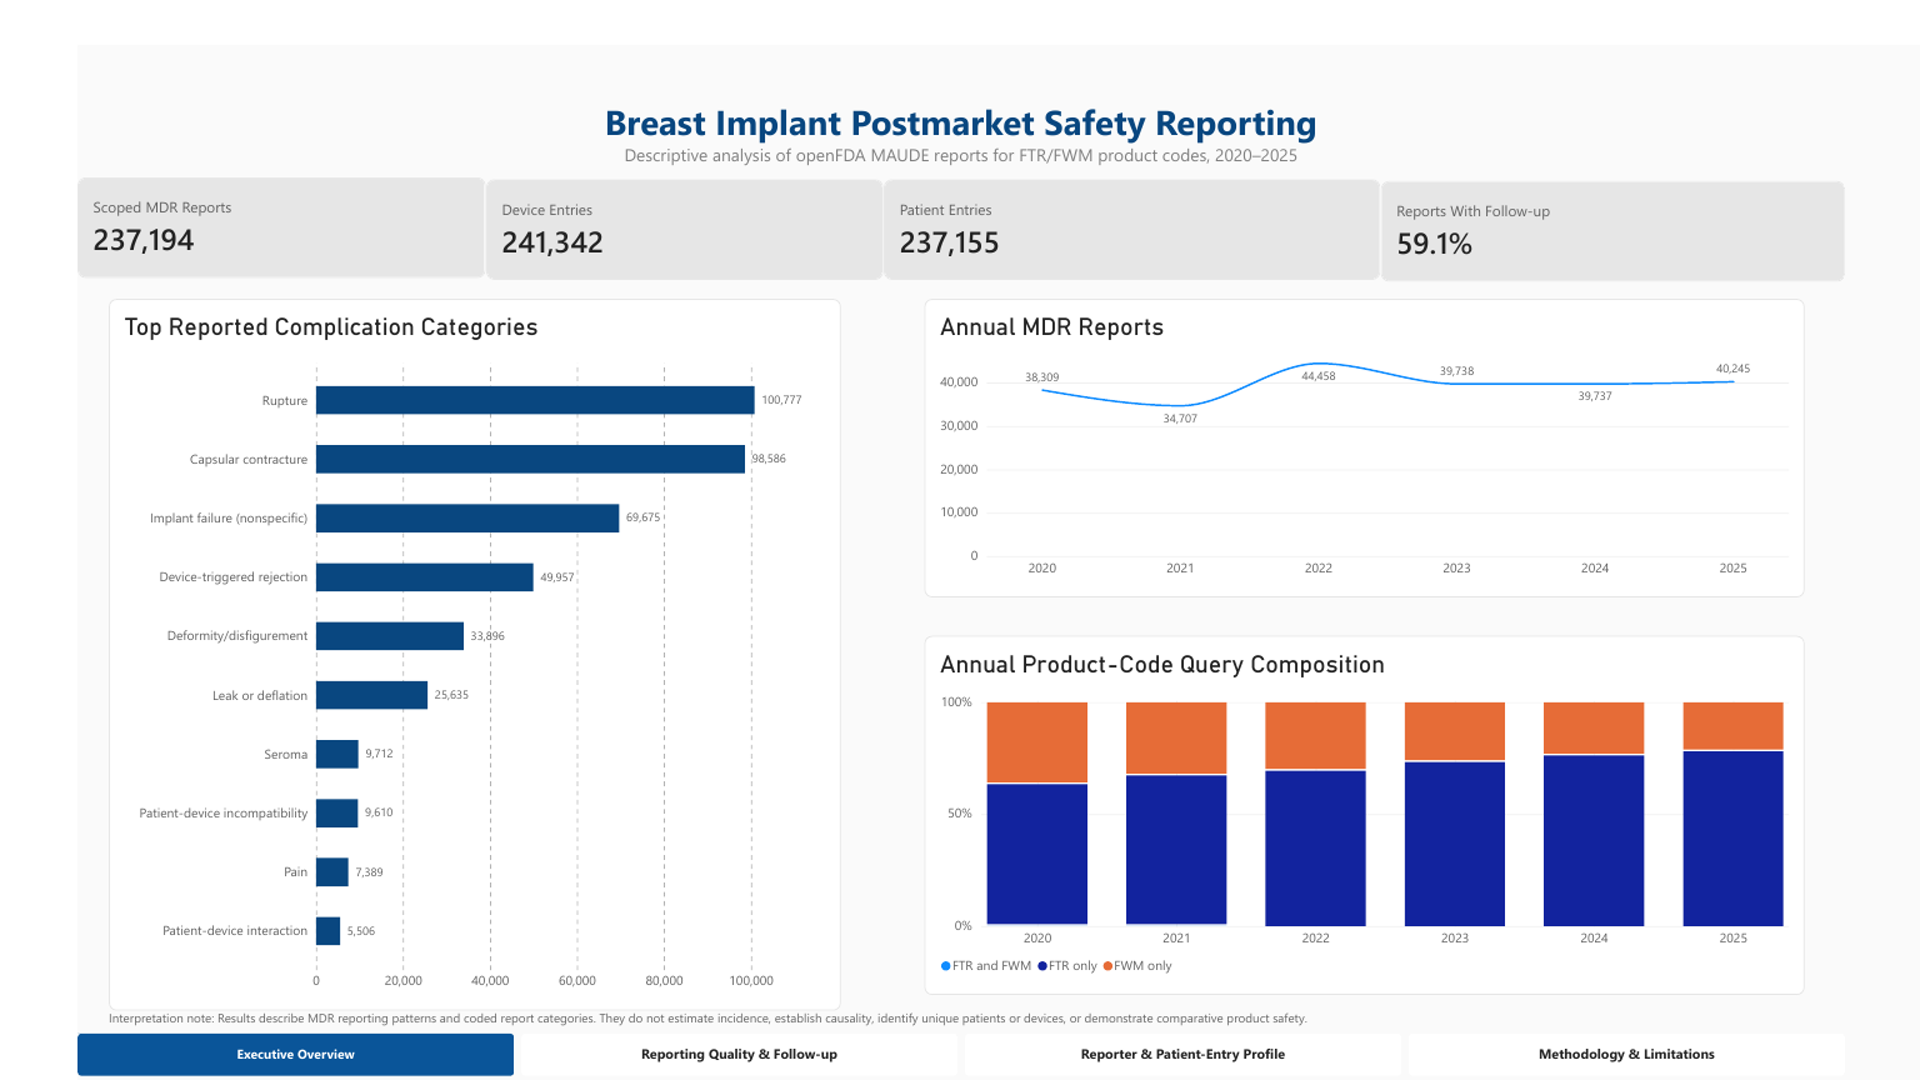

This screenshot's page, from the dashboard's own definition file:
{"tool":"powerbi","page":{"name":"Executive Overview","canvas":[1920,1080],"ordinal":0},"visuals":[{"type":"cardVisual","title":"Scoped MDR Reports","fields":{"Data":["_Measures.Scoped Reports"]},"box":[0,103.3,443.9,109.8],"z":1000},{"type":"cardVisual","title":"Device Entries","fields":{"Data":["_Measures.Device Entries"]},"box":[443.3,105,431.7,109.8],"z":2500},{"type":"cardVisual","title":"Patient Entries","fields":{"Data":["_Measures.Patient Entries"]},"box":[875,106.7,539,109.8],"z":2750},{"type":"lineChart","title":"Annual MDR Reports","fields":{"Category":["DimYear.Year"],"Y":["_Measures.Annual Reports"]},"box":[920,235,956.1,324.4],"z":4000},{"type":"textbox","box":[33.3,1008.3,1729.3,24.4],"z":4250},{"type":"cardVisual","title":"Reports With Follow-up","fields":{"Data":["_Measures.Reports With Follow-up %"]},"box":[1415,108.3,504.9,109.8],"z":4500},{"type":"clusteredBarChart","title":"Top Reported Complication Categories","fields":{"Category":["CategoryOverall.Category Display"],"Y":["Sum(CategoryOverall.ReportCount)"]},"box":[33.3,235,795.1,773.2],"z":5000},{"type":"hundredPercentStackedColumnChart","title":"Annual Product-Code Query Composition","fields":{"Category":["DimYear.Year"],"Series":["QueryComposition.QueryGroup"],"Y":["Sum(QueryComposition.ReportCount)"]},"box":[920,601.7,956.1,390.2],"z":6000},{"type":"textbox","box":[0,17.1,1919.5,141.5],"z":7000},{"type":"pageNavigator","box":[0,1033.3,1920,46.7],"z":7001}]}

Visuals, with their boxes in screenshot pixels (x1, y1, x2, y2), scaled from the page's 1920x1080 canvas onto the 1920x1080 screenshot:
"Scoped MDR Reports" cardVisual: 0/103/444/213
"Device Entries" cardVisual: 443/105/875/215
"Patient Entries" cardVisual: 875/107/1414/216
"Annual MDR Reports" lineChart: 920/235/1876/559
textbox: 33/1008/1763/1033
"Reports With Follow-up" cardVisual: 1415/108/1919/218
"Top Reported Complication Categories" clusteredBarChart: 33/235/828/1008
"Annual Product-Code Query Composition" hundredPercentStackedColumnChart: 920/602/1876/992
textbox: 0/17/1919/159
pageNavigator: 0/1033/1919/1079
